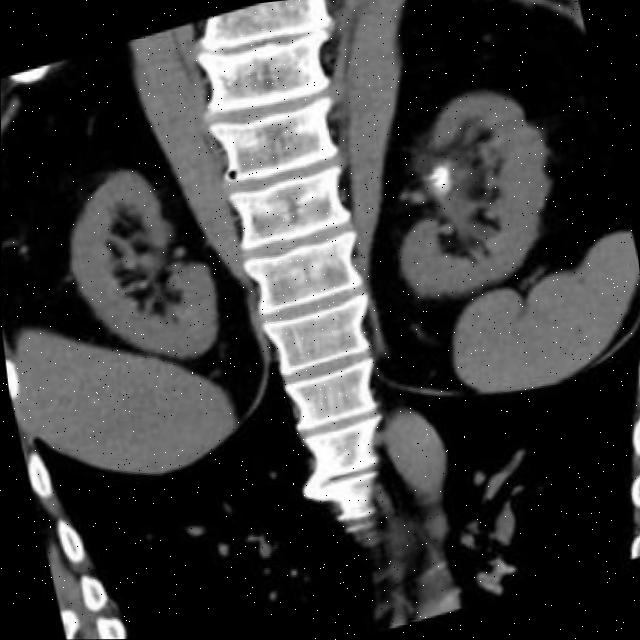Tas_Var: (432, 170, 453, 188), (429, 172, 441, 182), (435, 167, 445, 174)
